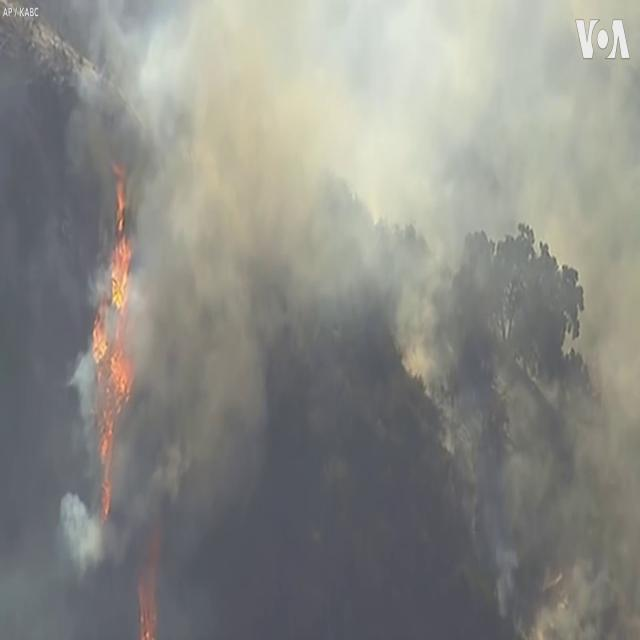Fire: (106, 242, 134, 312), (112, 341, 131, 406), (96, 411, 118, 467), (114, 174, 128, 238), (92, 312, 106, 368), (100, 475, 114, 525)
Smoke: (67, 7, 145, 171), (526, 548, 610, 634), (395, 268, 441, 415), (57, 488, 105, 571), (461, 238, 490, 310), (496, 536, 516, 622)
